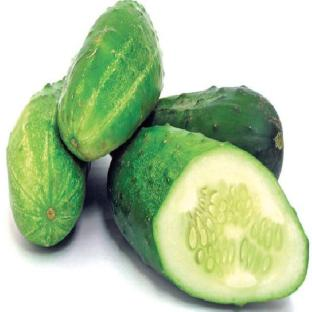Cucumber: (108, 125, 308, 304), (59, 0, 163, 160), (7, 81, 88, 246), (147, 86, 283, 177)
